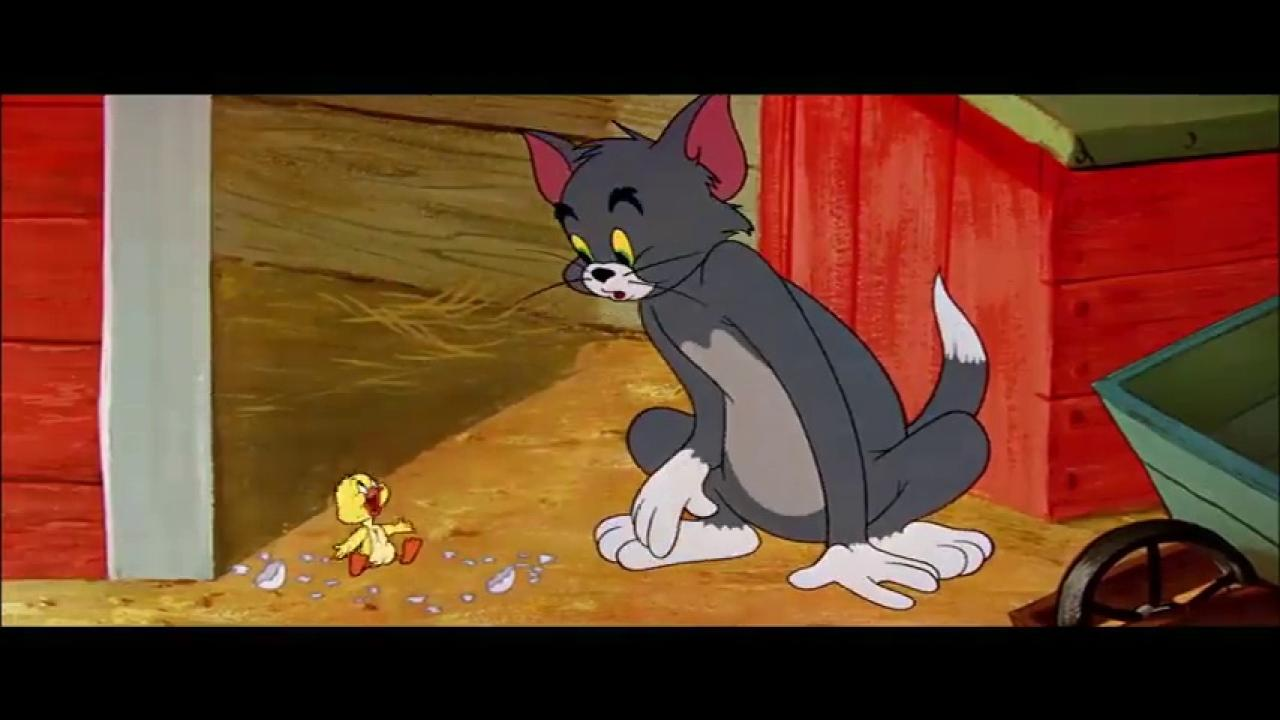Tom: (518, 94, 998, 613)
